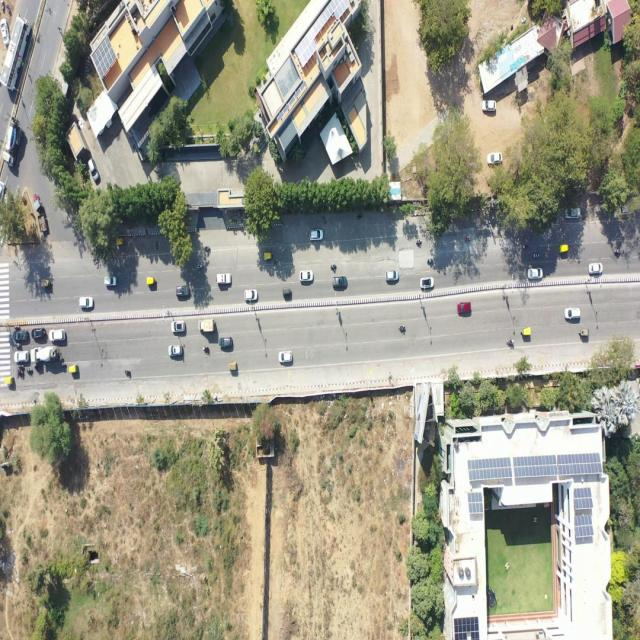3W: (68, 363, 81, 378), (3, 374, 16, 389), (520, 325, 533, 339), (557, 243, 570, 257), (578, 325, 590, 340), (40, 277, 52, 291), (227, 361, 239, 375), (282, 285, 294, 299), (116, 237, 128, 249), (263, 249, 273, 262), (146, 275, 156, 287)
Cars: (87, 157, 101, 183), (479, 96, 498, 115), (615, 201, 635, 219), (167, 342, 185, 360), (277, 348, 295, 365), (563, 205, 581, 222), (48, 328, 67, 344), (563, 307, 582, 323), (216, 271, 234, 287), (456, 300, 474, 316), (527, 266, 545, 282), (174, 284, 191, 300), (588, 261, 604, 278), (487, 151, 504, 167), (79, 295, 95, 311), (244, 287, 260, 303), (170, 319, 187, 334), (418, 276, 435, 291), (31, 327, 47, 342), (331, 275, 348, 289), (385, 269, 401, 283), (13, 329, 30, 342), (217, 336, 234, 349), (309, 229, 324, 243), (14, 351, 30, 364), (104, 275, 118, 288), (300, 269, 314, 282)
LCV: (0, 13, 32, 100)
M2W: (505, 336, 517, 348), (521, 239, 531, 252), (398, 323, 408, 335), (123, 366, 132, 378), (330, 261, 339, 273), (614, 246, 623, 258), (202, 343, 211, 354), (356, 210, 365, 221), (202, 245, 212, 254), (415, 237, 424, 247), (426, 255, 435, 265), (464, 234, 473, 244), (532, 251, 542, 260), (196, 262, 205, 271), (14, 342, 24, 350), (16, 369, 25, 377), (27, 366, 34, 375)
MAV: (1, 112, 24, 172), (32, 191, 50, 238), (31, 346, 62, 366)
Truck: (198, 317, 217, 335)
